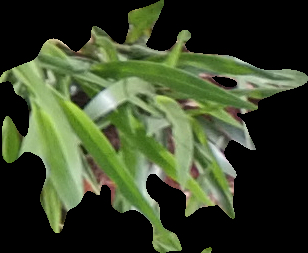grass: (1, 1, 307, 252)
